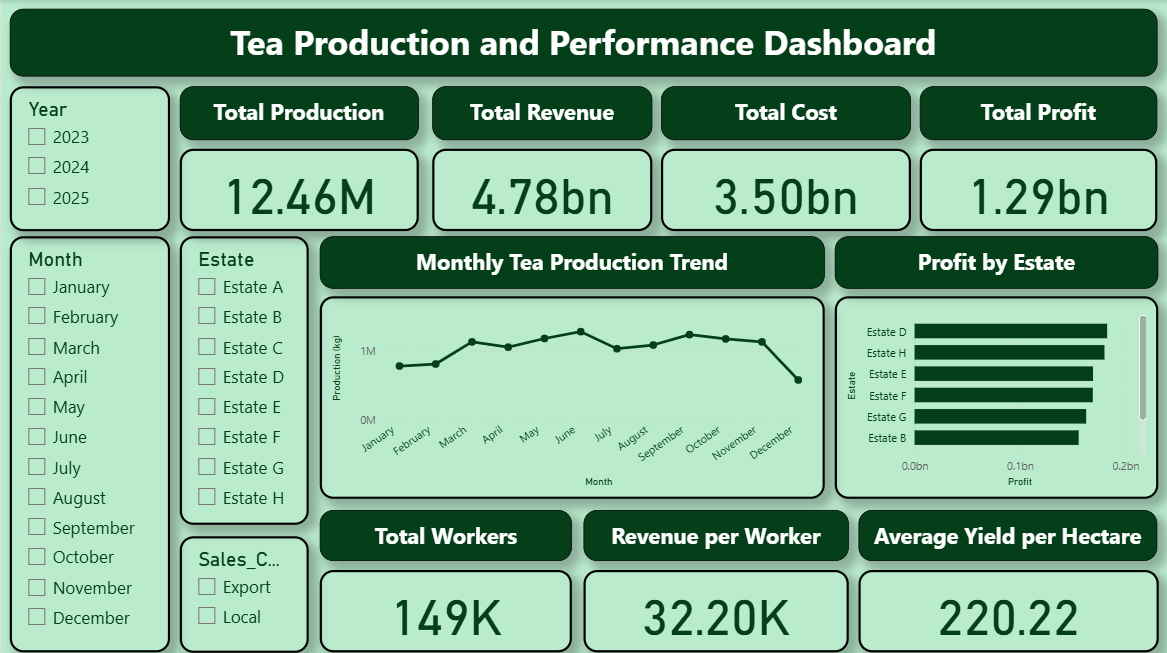

The dashboard page shown, as its layout file describes it:
{"tool":"powerbi","page":{"name":"Page 1","canvas":[1280,720],"ordinal":0},"visuals":[{"type":"textbox","box":[9.6,9.6,1259.7,74.1],"z":0},{"type":"textbox","box":[196.2,94.7,262.1,59],"z":1000},{"type":"textbox","box":[473.4,94.7,241.5,59],"z":2000},{"type":"textbox","box":[1008.6,94.7,260.7,59],"z":3000},{"type":"textbox","box":[724.5,94.7,274.4,59],"z":4000},{"type":"card","fields":{"Values":["Sheet1.Total_Production"]},"box":[196.2,163.3,262.1,90.6],"z":5000},{"type":"card","fields":{"Values":["Sheet1.Total_Revenue"]},"box":[473.4,163.3,241.5,90.6],"z":6000},{"type":"card","fields":{"Values":["Sheet1.Total_Cost"]},"box":[724.5,163.3,274.4,90.6],"z":7000},{"type":"card","fields":{"Values":["Sheet1.Total_Profit"]},"box":[1008.6,163.3,260.7,90.6],"z":8000},{"type":"slicer","fields":{"Values":["Sheet1.Year_Month.Variation.Date Hierarchy.Year"]},"box":[9.6,94.7,175.6,159.2],"z":9000},{"type":"slicer","fields":{"Values":["Sheet1.Year_Month.Variation.Date Hierarchy.Month"]},"box":[9.6,259.3,175.6,456.9],"z":10000},{"type":"slicer","fields":{"Values":["Sheet1.Estate"]},"box":[196.2,259.3,141.3,317],"z":11000},{"type":"lineChart","fields":{"Category":["Sheet1.Year_Month.Variation.Date Hierarchy.Month"],"Y":["Sum(Sheet1.Production_kg)"]},"box":[349.9,325.2,554.4,222.3],"z":12000},{"type":"textbox","box":[349.9,259.3,554.4,57.6],"z":13000},{"type":"clusteredBarChart","fields":{"Y":["Sum(Sheet1.Profit_LKR)"],"Category":["Sheet1.Estate"]},"box":[915.3,325.2,355.4,222.3],"z":13001},{"type":"textbox","box":[915.3,259.3,355.4,57.6],"z":13002},{"type":"textbox","box":[349.9,559.9,277.2,56.3],"z":13003},{"type":"card","fields":{"Values":["Sheet1.Total_Workers"]},"box":[349.9,625.7,277.2,90.6],"z":13004},{"type":"slicer","fields":{"Values":["Sheet1.Sales_Channel"]},"box":[196.2,588.7,141.3,127.6],"z":13005},{"type":"textbox","box":[639.5,559.9,290.9,56.3],"z":13006},{"type":"card","fields":{"Values":["Sheet1.Revenue_Per_Worker"]},"box":[639.5,625.7,290.9,90.6],"z":13007},{"type":"textbox","box":[941.3,559.9,328,56.3],"z":13008},{"type":"card","fields":{"Values":["Sheet1.Average_Yield_per_Hectare"]},"box":[941.3,625.7,329.3,90.6],"z":13009}]}

Visuals, with their boxes in screenshot pixels (x1, y1, x2, y2), scaled from the page's 1280x720 canvas onto the 1167x653 screenshot:
textbox: Rect(9, 9, 1157, 76)
textbox: Rect(179, 86, 418, 139)
textbox: Rect(432, 86, 652, 139)
textbox: Rect(920, 86, 1157, 139)
textbox: Rect(661, 86, 911, 139)
card - Sheet1.Total_Production: Rect(179, 148, 418, 230)
card - Sheet1.Total_Revenue: Rect(432, 148, 652, 230)
card - Sheet1.Total_Cost: Rect(661, 148, 911, 230)
card - Sheet1.Total_Profit: Rect(920, 148, 1157, 230)
slicer - Sheet1.Year_Month.Variation.Date Hierarchy.Year: Rect(9, 86, 169, 230)
slicer - Sheet1.Year_Month.Variation.Date Hierarchy.Month: Rect(9, 235, 169, 650)
slicer - Sheet1.Estate: Rect(179, 235, 308, 523)
lineChart - Sheet1.Year_Month.Variation.Date Hierarchy.Month x Sum(Sheet1.Production_kg): Rect(319, 295, 824, 497)
textbox: Rect(319, 235, 824, 287)
clusteredBarChart - Sum(Sheet1.Profit_LKR) x Sheet1.Estate: Rect(834, 295, 1159, 497)
textbox: Rect(834, 235, 1159, 287)
textbox: Rect(319, 508, 572, 559)
card - Sheet1.Total_Workers: Rect(319, 567, 572, 650)
slicer - Sheet1.Sales_Channel: Rect(179, 534, 308, 650)
textbox: Rect(583, 508, 848, 559)
card - Sheet1.Revenue_Per_Worker: Rect(583, 567, 848, 650)
textbox: Rect(858, 508, 1157, 559)
card - Sheet1.Average_Yield_per_Hectare: Rect(858, 567, 1158, 650)
